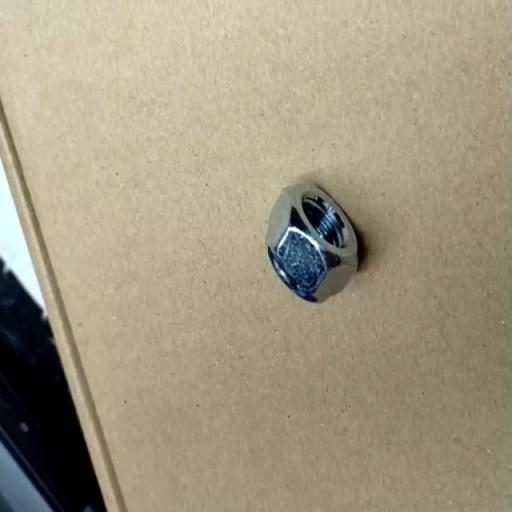Nut: (264, 182, 361, 304)
